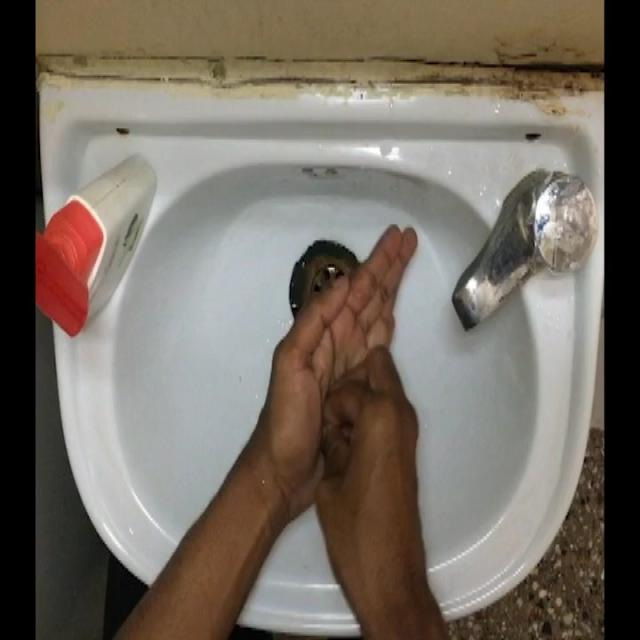step_6: (265, 210, 433, 590)
